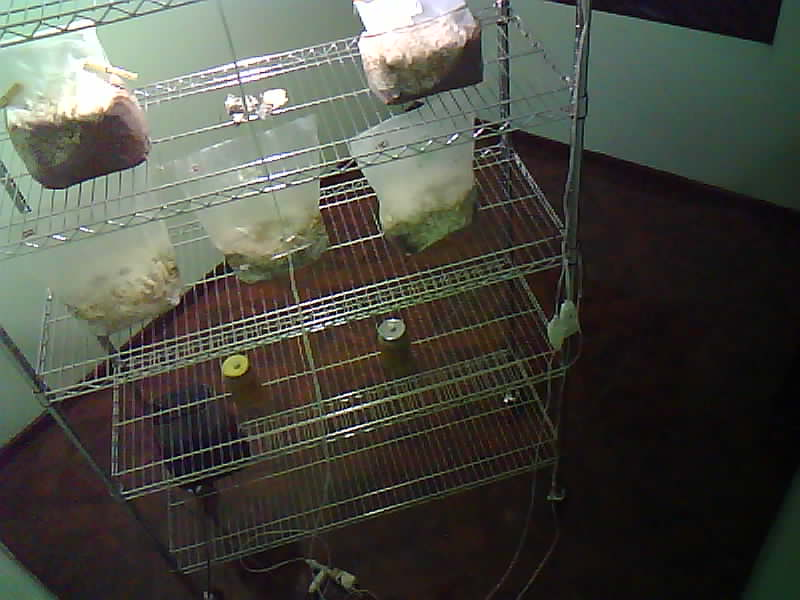bloco: (176, 136, 337, 287), (0, 55, 160, 205), (15, 209, 188, 336), (352, 112, 496, 264), (334, 8, 513, 105)
